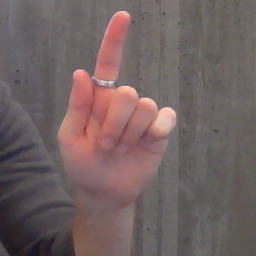F: (57, 8, 182, 201)
